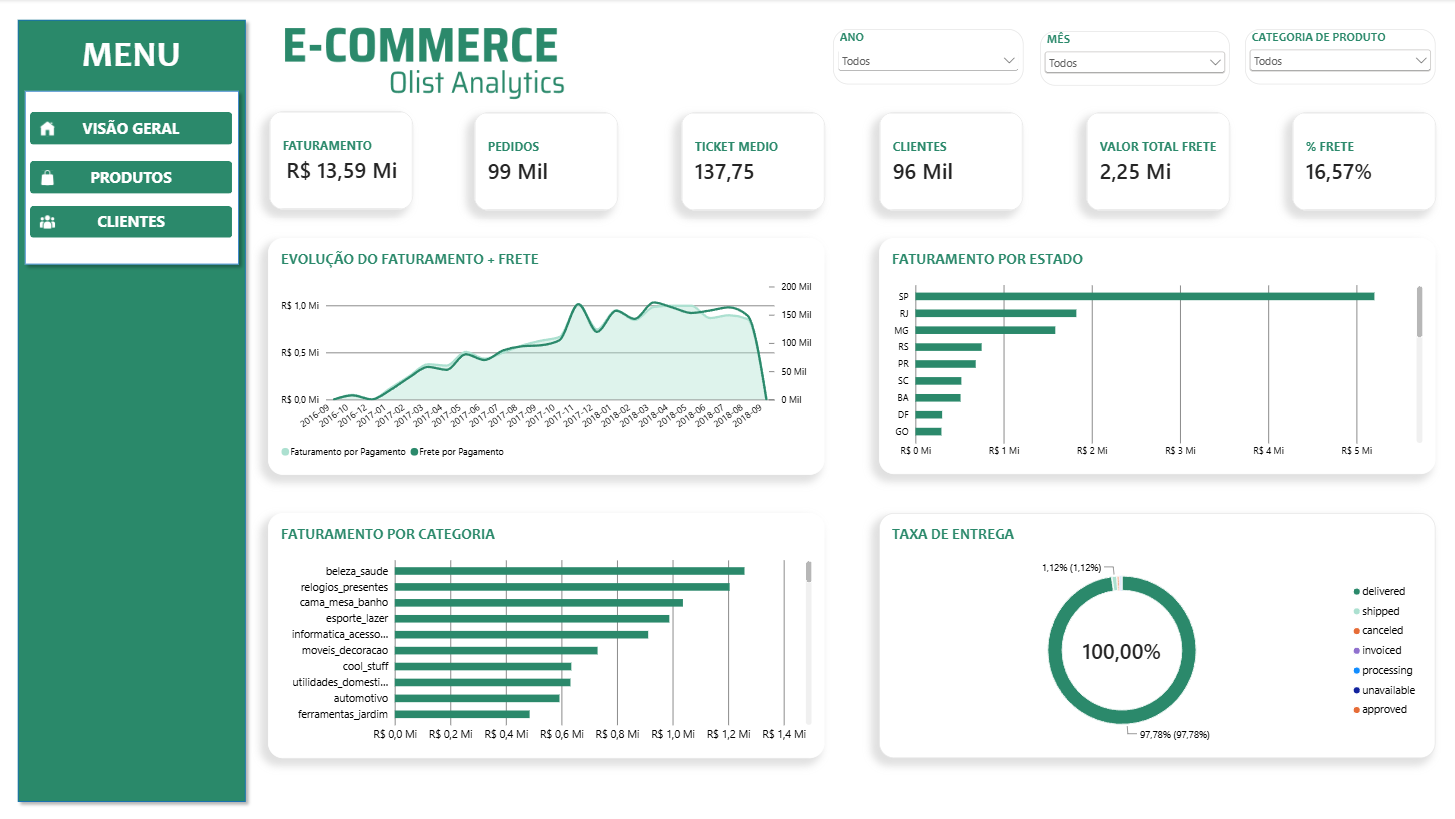

This screenshot's page, from the dashboard's own definition file:
{"tool":"powerbi","page":{"name":"EXECUTIVO","canvas":[1920,1080],"ordinal":0},"visuals":[{"type":"image","box":[254,18,678,170],"z":0},{"type":"cardVisual","fields":{"Data":["MEDIDAS.Frete por Pagamento"]},"box":[1430,148.3,190,130],"z":1000},{"type":"cardVisual","fields":{"Data":["MEDIDAS.QTD_Pedidos por Pagamento"]},"box":[624.3,148.6,190,130],"z":2000},{"type":"cardVisual","fields":{"Data":["MEDIDAS.Ticket_Médio por Pagamento"]},"box":[896.7,148.3,190,130],"z":3000},{"type":"cardVisual","fields":{"Data":["MEDIDAS.Clientes Unicos"]},"box":[1158.3,148.3,190,130],"z":4000},{"type":"shape","box":[14,18,318,1048],"z":5000},{"type":"cardVisual","fields":{"Data":["MEDIDAS.% Frete"]},"box":[1701.7,148.3,190,130],"z":6000},{"type":"slicer","fields":{"Values":["Calendario.Ano"]},"box":[1096.7,40,251,72.6],"z":7000},{"type":"slicer","fields":{"Values":["Calendario.Ano_Mes"]},"box":[1370,41.7,250,72],"z":8000},{"type":"lineChart","title":"EVOLUÇÃO DO FATURAMENTO + FRETE  ","fields":{"Category":["Calendario.Ano_Mes"],"Y":["MEDIDAS.Faturamento por Pagamento"],"Y2":["MEDIDAS.Frete por Pagamento"]},"box":[353.3,315,733.3,311.7],"z":9000},{"type":"clusteredBarChart","title":"FATURAMENTO POR ESTADO","fields":{"Category":["Clientes.customer_state"],"Y":["MEDIDAS.Faturamento por Pagamento"]},"box":[1158.3,315,733,311],"z":10000},{"type":"clusteredBarChart","title":"FATURAMENTO POR CATEGORIA","fields":{"Category":["Produtos.product_category_name"],"Y":["MEDIDAS.Faturamento por Pagamento"]},"box":[353.3,676.7,733.3,323],"z":11000},{"type":"shape","box":[23.3,112.2,300,246.7],"z":12000},{"type":"donutChart","title":"TAXA DE  ENTREGA","fields":{"Category":["pedidos.order_status"],"Y":["MEDIDAS.% Pedidos por Status"]},"box":[1158.3,676.7,733,323.3],"z":13000},{"type":"slicer","fields":{"Values":["Produtos.product_category_name"]},"box":[1640,40,251,72.6],"z":14000},{"type":"cardVisual","fields":{"Data":["MEDIDAS.Faturamento por Pagamento"]},"box":[353.8,148.2,190,130],"z":15000},{"type":"actionButton","box":[40,148.8,266.2,43.1],"z":16000},{"type":"actionButton","title":"PRODUTOS","box":[40,213.1,266.2,43.1],"z":17000},{"type":"actionButton","box":[40,273.1,266.2,41.9],"z":18000},{"type":"textbox","box":[40,41.7,266.7,70],"z":19000}]}

Visuals, with their boxes in screenshot pixels (x1, y1, x2, y2), scaled from the page's 1920x1080 canvas onto the 1455x819 screenshot:
image: detection(192, 14, 706, 143)
cardVisual - MEDIDAS.Frete por Pagamento: detection(1084, 112, 1228, 211)
cardVisual - MEDIDAS.QTD_Pedidos por Pagamento: detection(473, 113, 617, 211)
cardVisual - MEDIDAS.Ticket_Médio por Pagamento: detection(680, 112, 824, 211)
cardVisual - MEDIDAS.Clientes Unicos: detection(878, 112, 1022, 211)
shape: detection(11, 14, 252, 808)
cardVisual - MEDIDAS.% Frete: detection(1290, 112, 1434, 211)
slicer - Calendario.Ano: detection(831, 30, 1021, 85)
slicer - Calendario.Ano_Mes: detection(1038, 32, 1228, 86)
"EVOLUÇÃO DO FATURAMENTO + FRETE  " lineChart: detection(268, 239, 823, 475)
"FATURAMENTO POR ESTADO" clusteredBarChart: detection(878, 239, 1433, 475)
"FATURAMENTO POR CATEGORIA" clusteredBarChart: detection(268, 513, 823, 758)
shape: detection(18, 85, 245, 272)
"TAXA DE  ENTREGA" donutChart: detection(878, 513, 1433, 758)
slicer - Produtos.product_category_name: detection(1243, 30, 1433, 85)
cardVisual - MEDIDAS.Faturamento por Pagamento: detection(268, 112, 412, 211)
actionButton: detection(30, 113, 232, 146)
"PRODUTOS" actionButton: detection(30, 162, 232, 194)
actionButton: detection(30, 207, 232, 239)
textbox: detection(30, 32, 232, 85)
